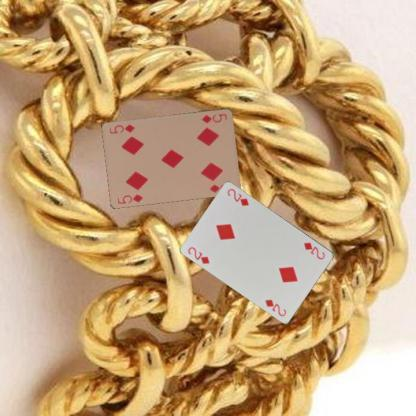2d: (300, 240, 326, 260), (186, 245, 210, 266)
5d: (199, 110, 228, 124), (115, 191, 144, 205)
